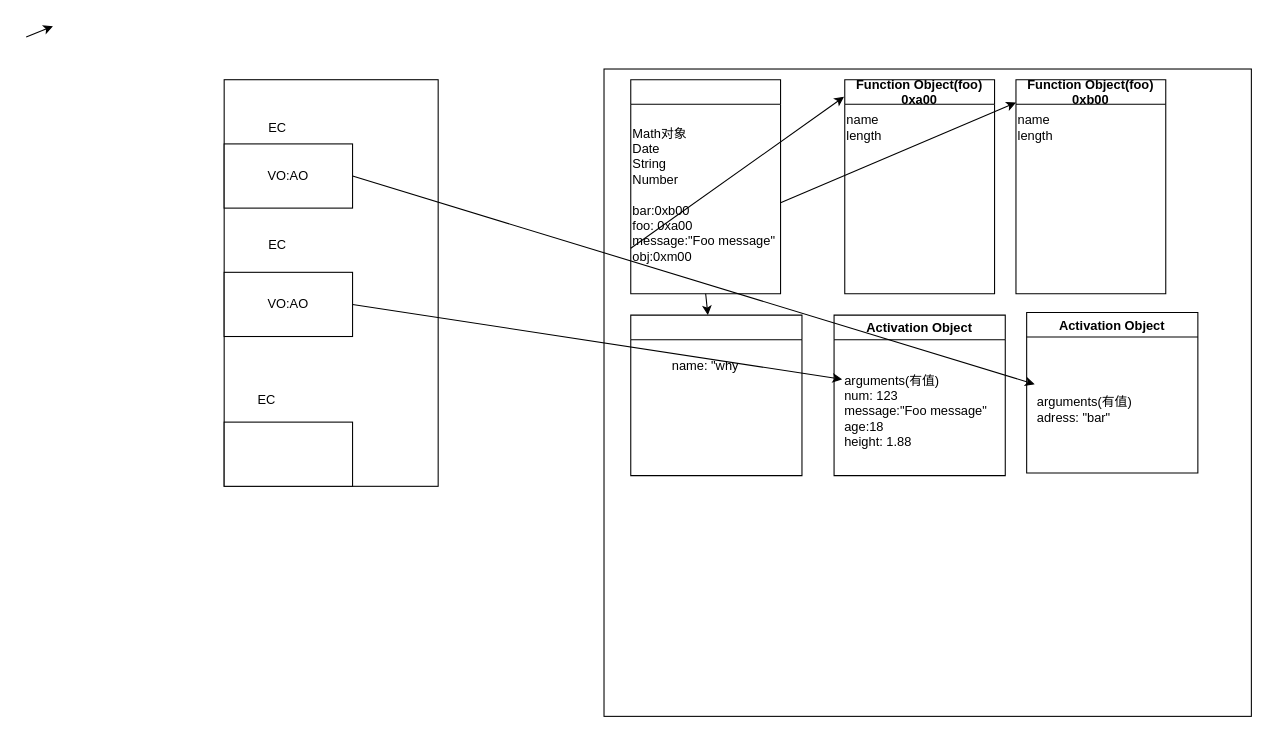
Some shapes in this 1270 by 735 pixel diagram are drawn without their labels. The box of each missing label's shape, as (x1, y1, x2, y2) in pixels:
Global Object(window): (630, 79, 781, 294)
obj对象(0xm00): (630, 314, 802, 476)
VO:GO scope chain this: (223, 421, 353, 486)
